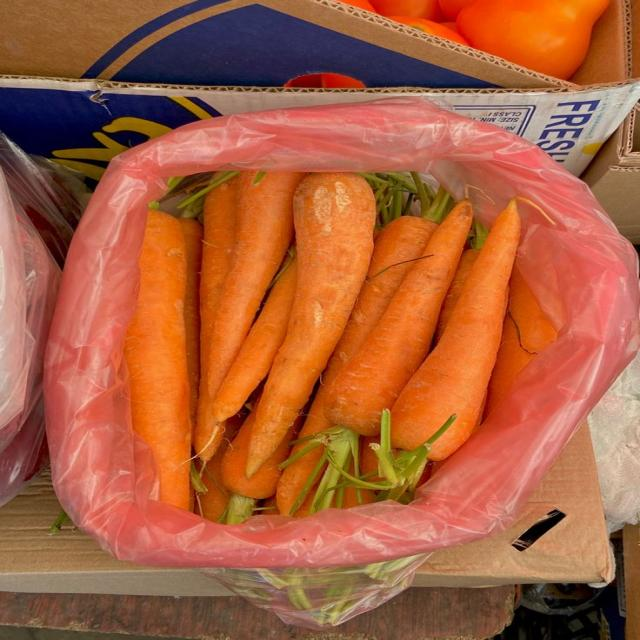carrot: (247, 173, 375, 476), (326, 200, 473, 435), (392, 200, 520, 460), (194, 171, 304, 461), (300, 216, 436, 437), (124, 211, 191, 509), (323, 216, 437, 385), (214, 258, 297, 420), (193, 177, 238, 450), (485, 266, 557, 414), (200, 177, 238, 380), (434, 220, 487, 343), (222, 410, 293, 499), (195, 416, 242, 521), (180, 218, 203, 430), (434, 248, 479, 343), (196, 441, 230, 521), (360, 436, 384, 482)
